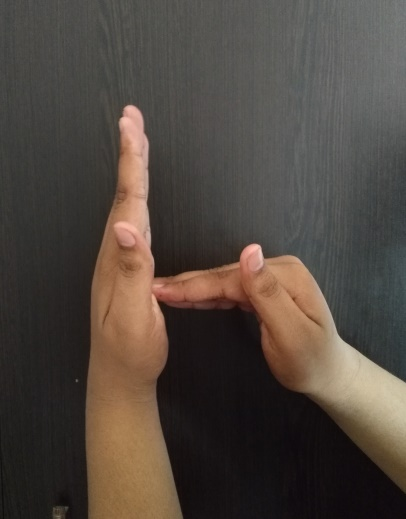ga: (89, 105, 341, 400)
